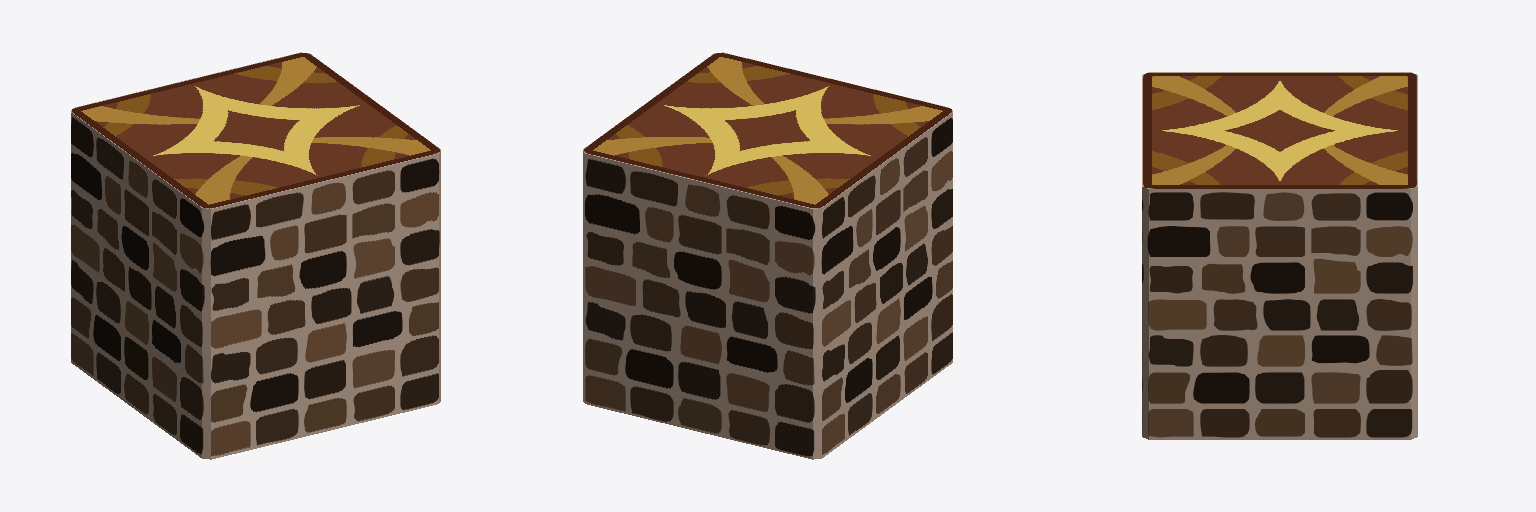
The picture shows the model from 3 angles: view 1: azimuth 30°, elevation 25°; view 2: azimuth 150°, elevation 25°; view 3: azimuth 270°, elevation 25°; orthographic projection.
Visible parts, largest first — view 1: Block; view 2: Block; view 3: Block.
Boxes of the visible parts, x1,y1,x2,y2 form: Block: [71, 52, 440, 459]; Block: [583, 52, 952, 459]; Block: [1142, 72, 1417, 439].
Bounding box in the file's own units: 2 × 2 × 2.
Materials: 1 (1 with a texture image).